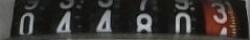digits: (174, 0, 193, 37), (210, 1, 228, 34), (18, 11, 35, 38), (57, 11, 72, 38), (96, 9, 112, 34), (135, 13, 151, 33)
